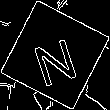N_N: (28, 25, 82, 85)
